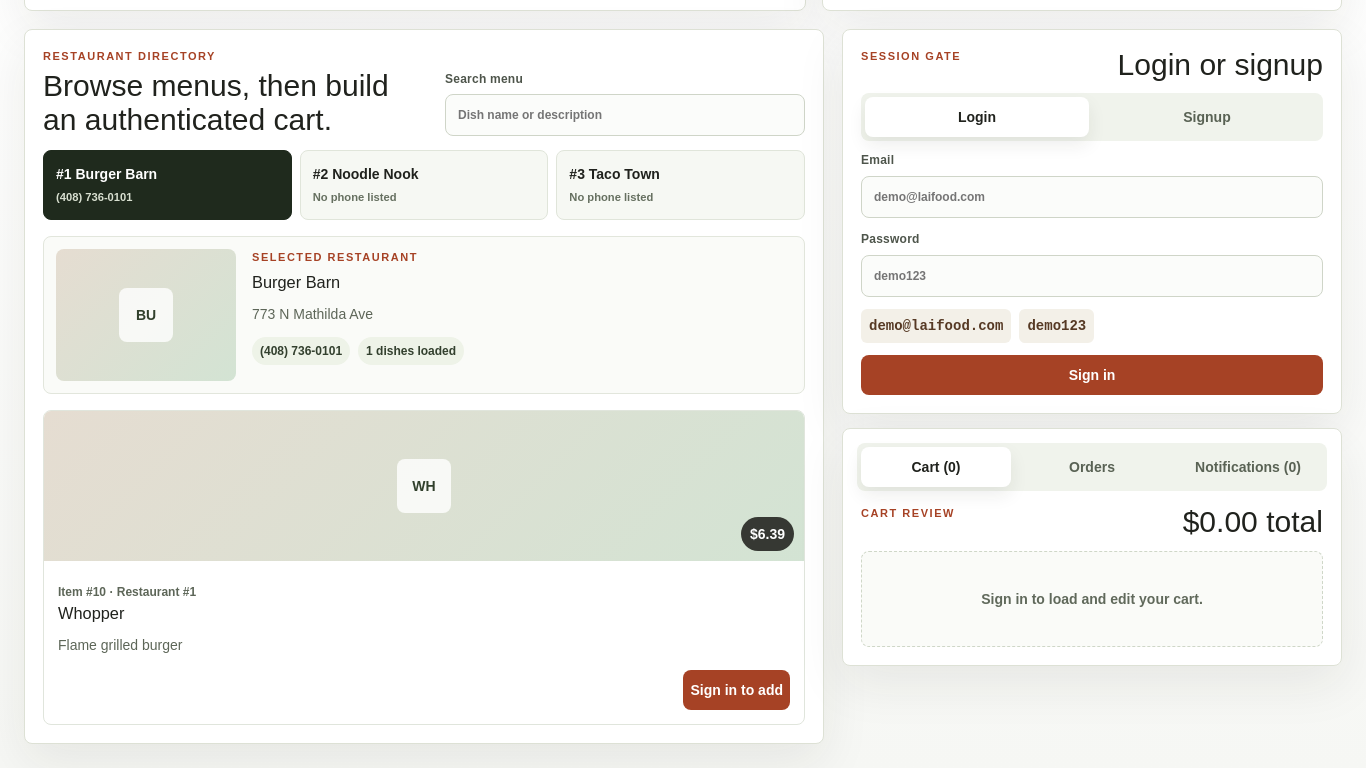
guest browsing and auth › lets guests browse restaurants and menu items before signing in
The image size is (1366, 768).
(page scrolled)
Expected: the heading "Burger Barn" is shown, x1=252 y1=273 x2=340 y2=291
Expected: the heading "Whopper" is shown, x1=58 y1=604 x2=124 y2=622
Click the button "Sign in to add". click: x=737, y=690
box: x1=684 y1=670 x2=790 y2=710
(page scrolled)
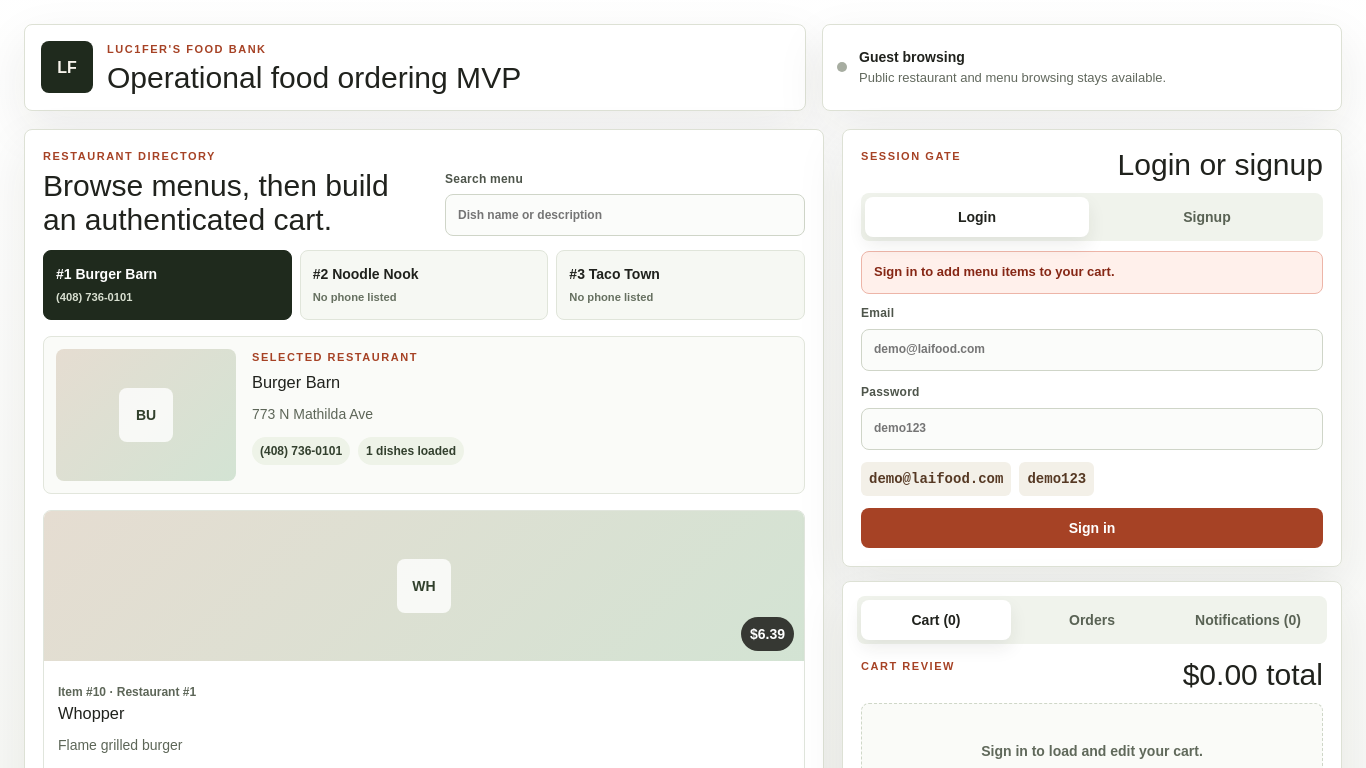
Expected: the message reads "Sign in to add menu items to your cart.", x1=874 y1=264 x2=1114 y2=280
